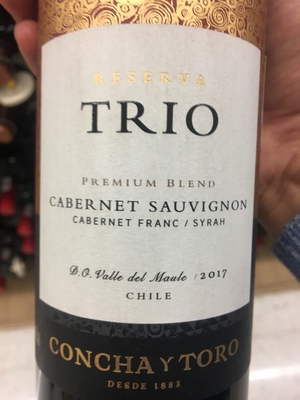trio cabernet sauvignon: (25, 1, 266, 400)
